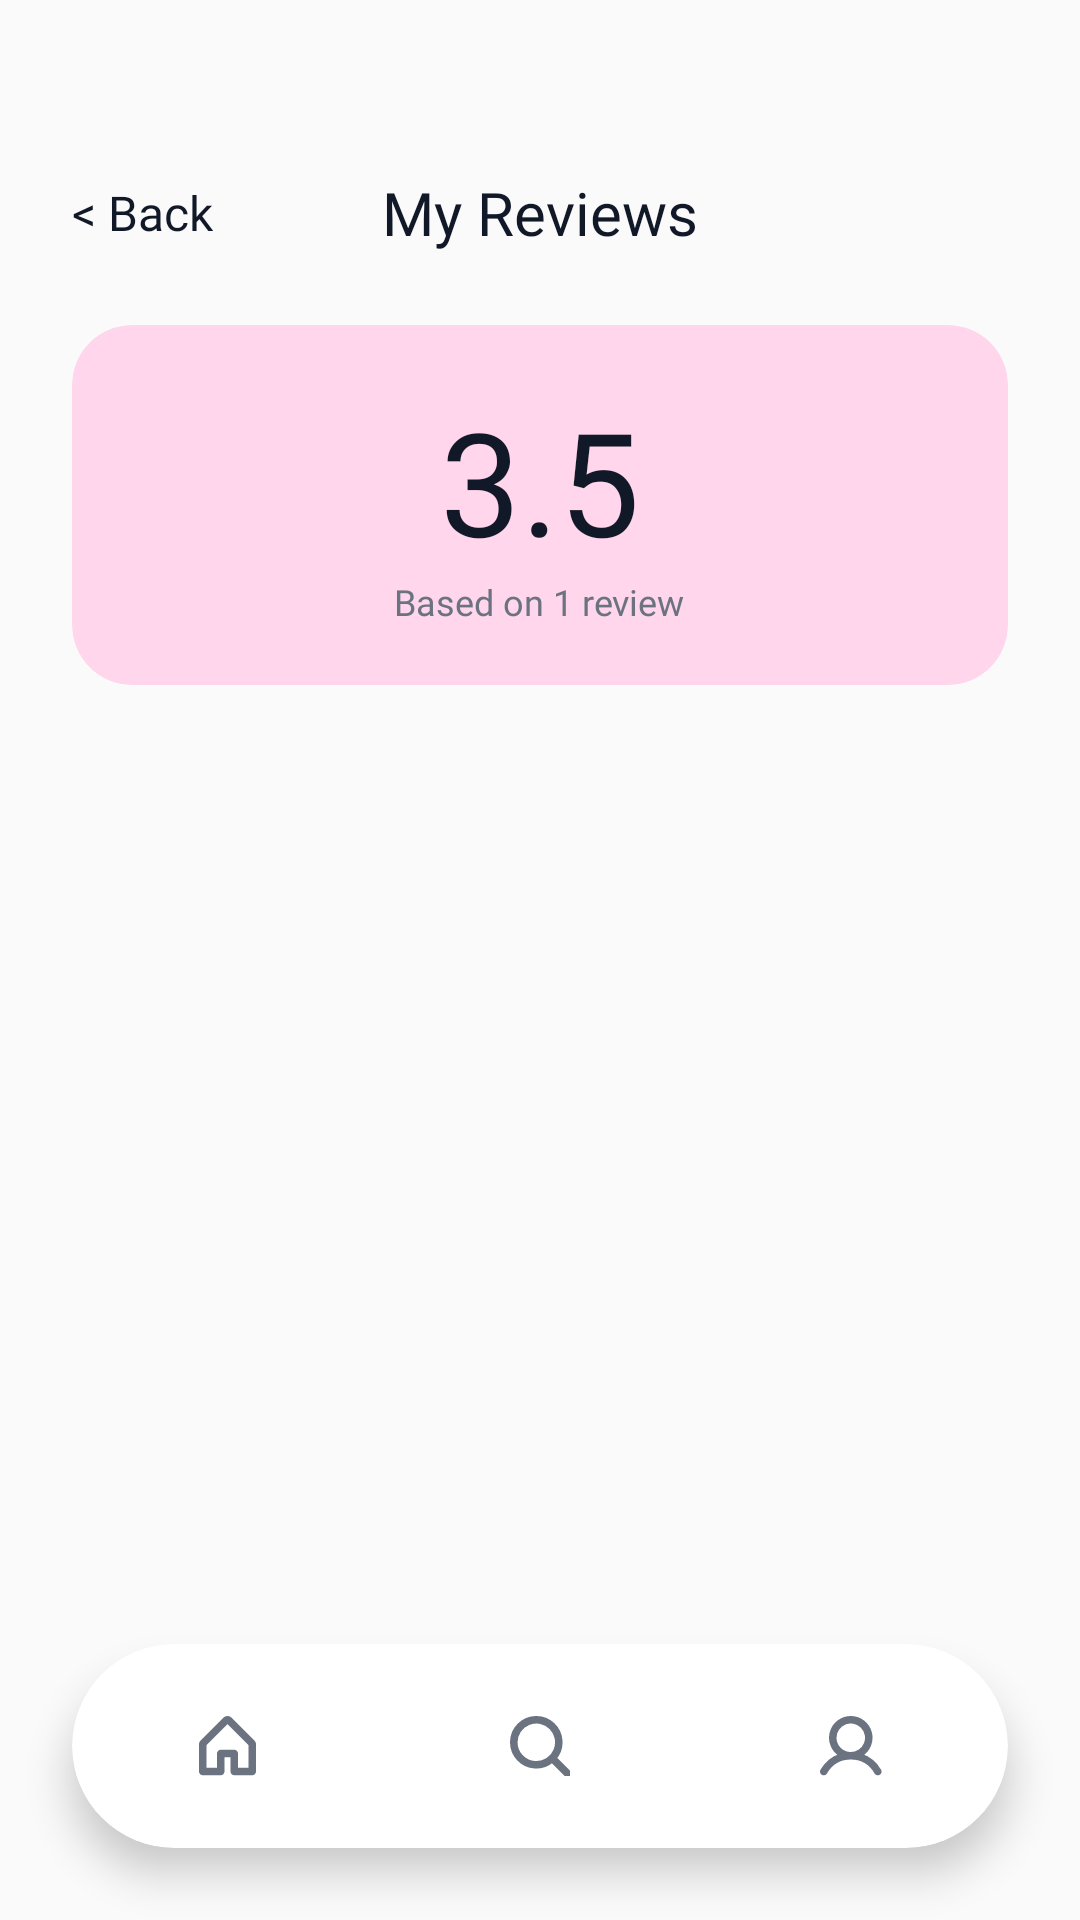

Point at icon controls on the screen. Image size 1080×1920, points as [x,y].
home: [227,1746]
profile: [851,1746]
search: [540,1746]
